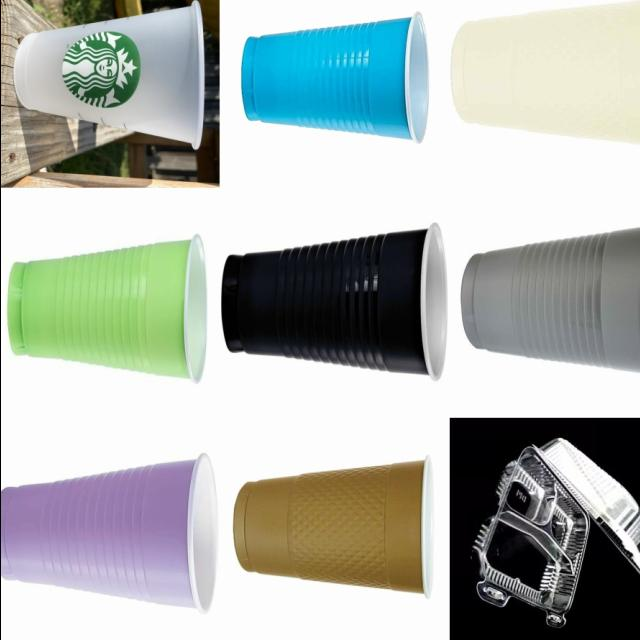plastik: (221, 223, 447, 380), (0, 454, 216, 613), (473, 439, 640, 628), (7, 235, 206, 381), (13, 2, 203, 149), (234, 456, 432, 597), (451, 1, 640, 144), (460, 228, 640, 372), (241, 13, 428, 142)
